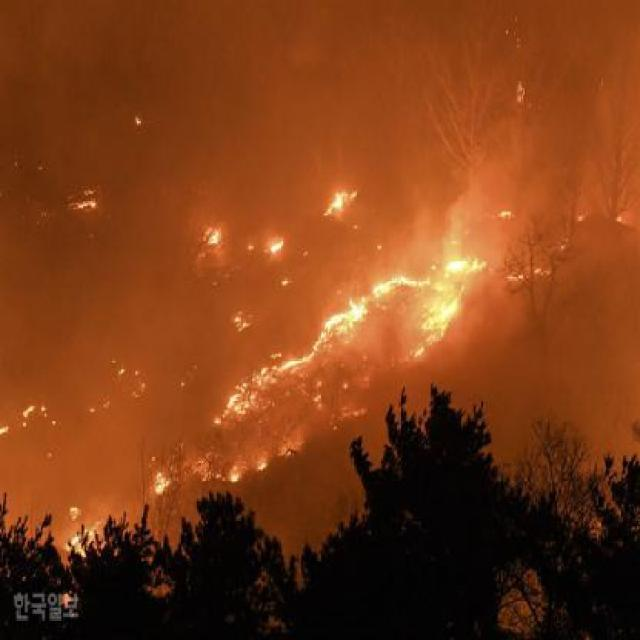Fire: (217, 221, 491, 422), (138, 426, 271, 494), (324, 184, 358, 216), (74, 180, 102, 214), (66, 530, 88, 558), (203, 226, 226, 249)
